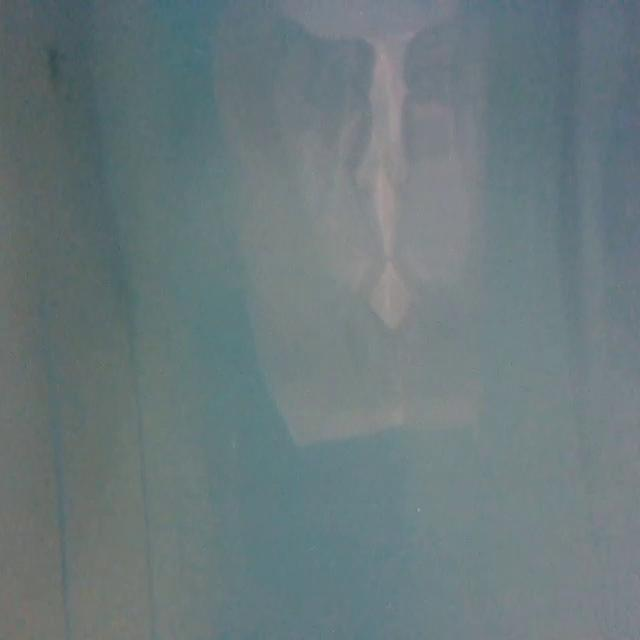plastic bags: (201, 0, 427, 473)
